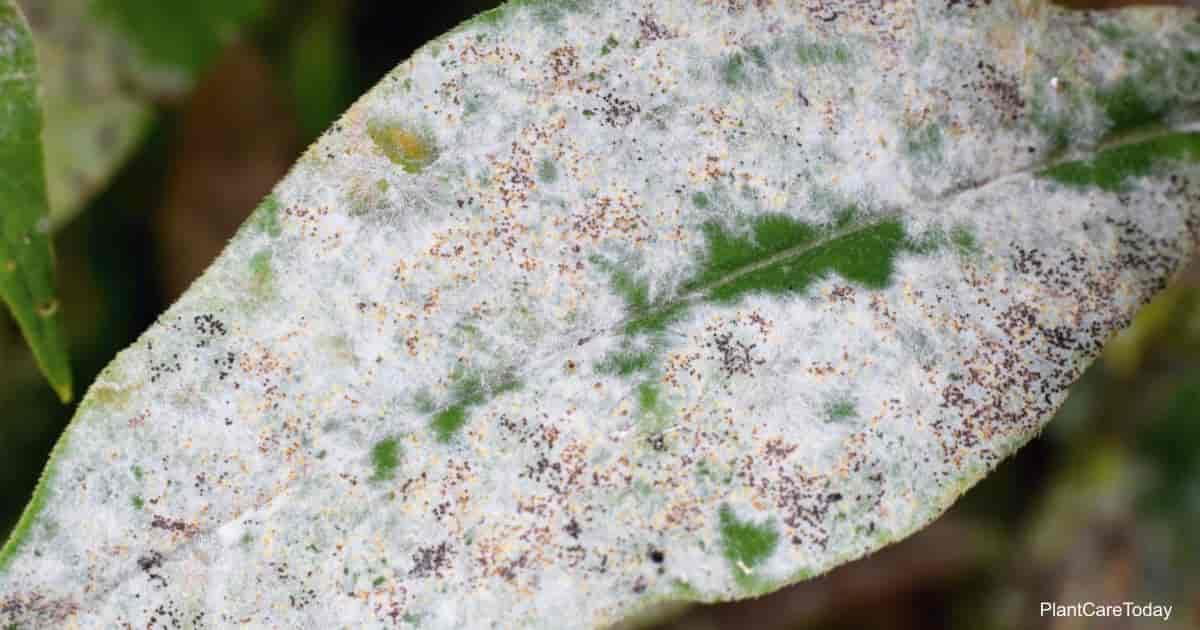powdery_mildew: (25, 4, 1181, 630)
